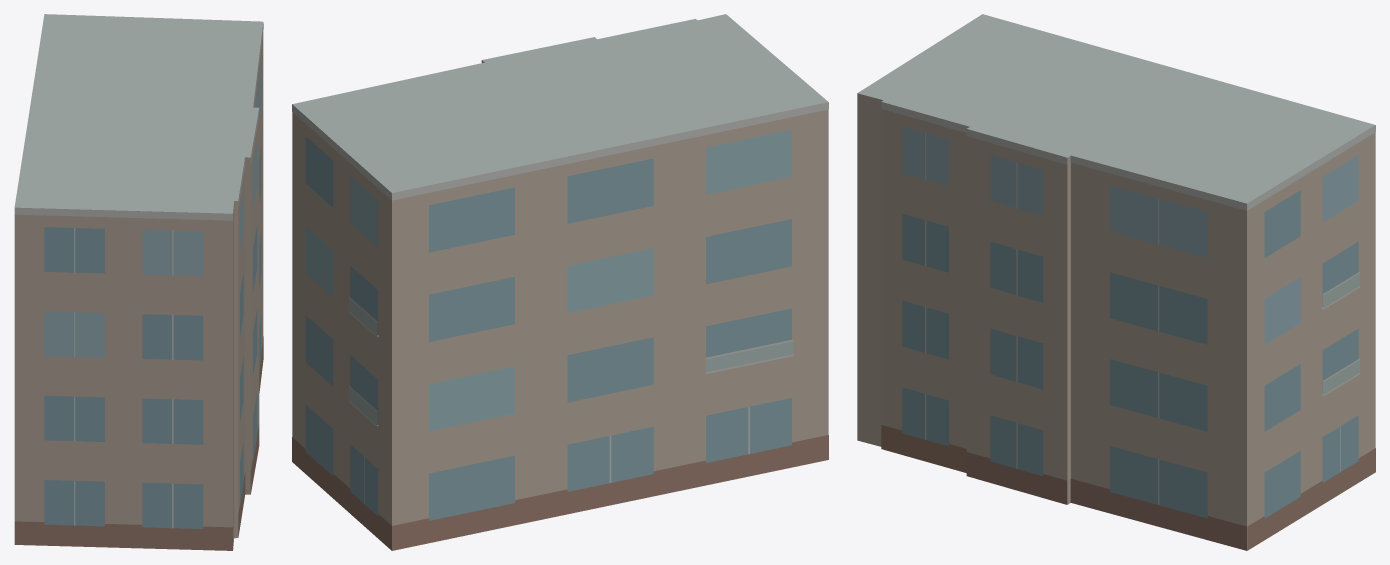
The model's file is survey-upis-32969495.glb.
3 views of the same model, side by side, from view 1: azimuth 30°, elevation 25°; view 2: azimuth 150°, elevation 25°; view 3: azimuth 270°, elevation 25° (orthographic). The views are drawn at different scales.
Parts seen in each view (by area): view 1: survey-upis-32969495.tmp; view 2: survey-upis-32969495.tmp; view 3: survey-upis-32969495.tmp.
Part boxes in pixels (bbox=[...]): survey-upis-32969495.tmp: bbox=[14, 14, 263, 550]; survey-upis-32969495.tmp: bbox=[292, 14, 828, 550]; survey-upis-32969495.tmp: bbox=[857, 14, 1375, 550].
Bounding box in the file's own units: 13.83 × 11.8 × 15.98.
